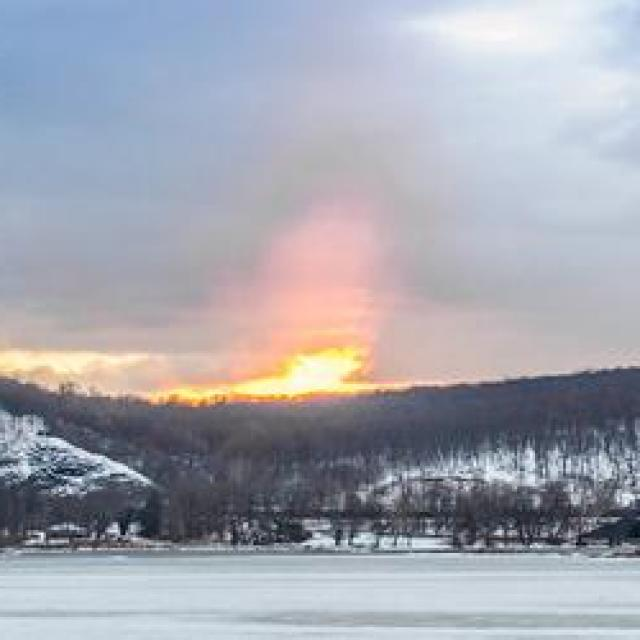fire: (267, 351, 361, 395)
smoke: (258, 204, 378, 346)
